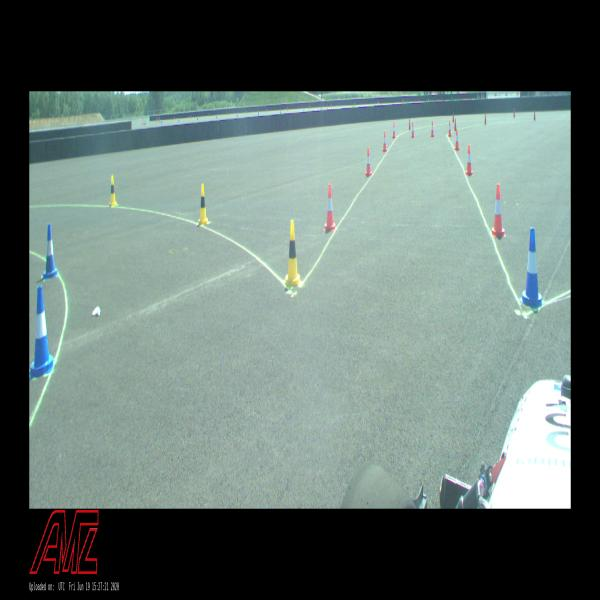blue_cone: (29, 286, 55, 380), (519, 227, 545, 308), (43, 223, 58, 280)
orange_cone: (491, 184, 506, 237), (324, 184, 335, 231), (465, 145, 473, 176), (365, 147, 372, 176), (454, 129, 460, 151), (382, 132, 387, 152), (411, 121, 415, 138), (430, 121, 434, 137), (448, 121, 452, 137), (392, 123, 396, 138)
yellow_cone: (284, 220, 301, 287), (198, 184, 208, 225), (109, 175, 117, 207)
